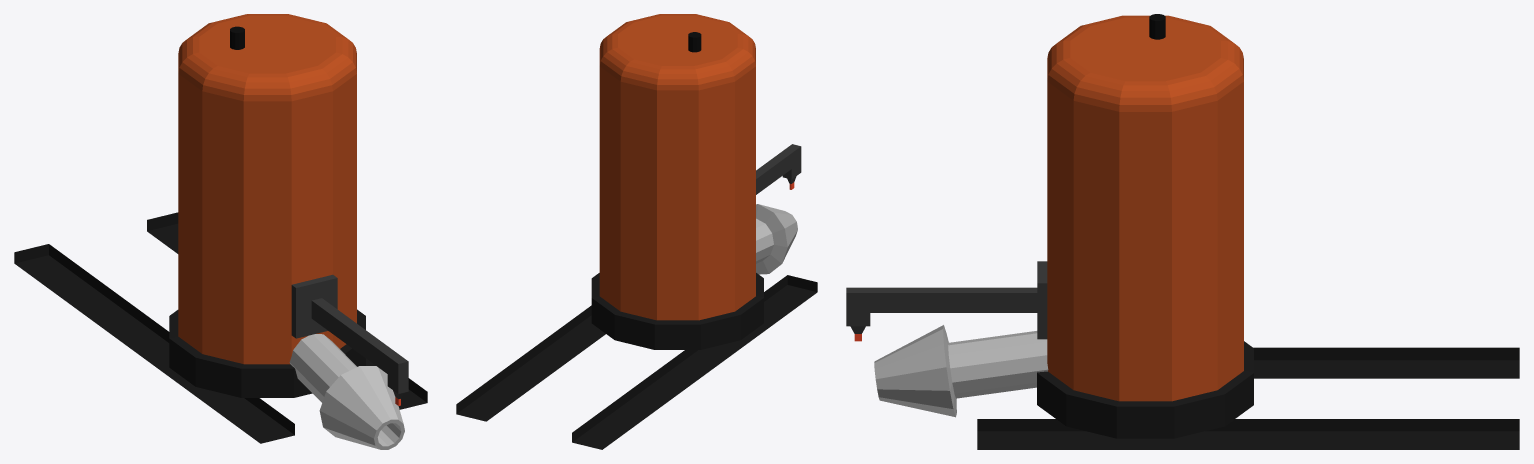
File: FlameThrower.fbx
3 views of the same model, side by side, from view 1: azimuth 30°, elevation 25°; view 2: azimuth 150°, elevation 25°; view 3: azimuth 270°, elevation 25° (orthographic). The views are drawn at different scales.
Visible parts, largest first — view 1: Launcher; view 2: Launcher; view 3: Launcher.
Boxes of the visible parts, left/top/right/bottom form: Launcher: left=14, top=14, right=427, bottom=449; Launcher: left=456, top=14, right=817, bottom=449; Launcher: left=846, top=14, right=1519, bottom=449.
Bounding box in the file's own units: 0.6035 × 1.17 × 1.87.
